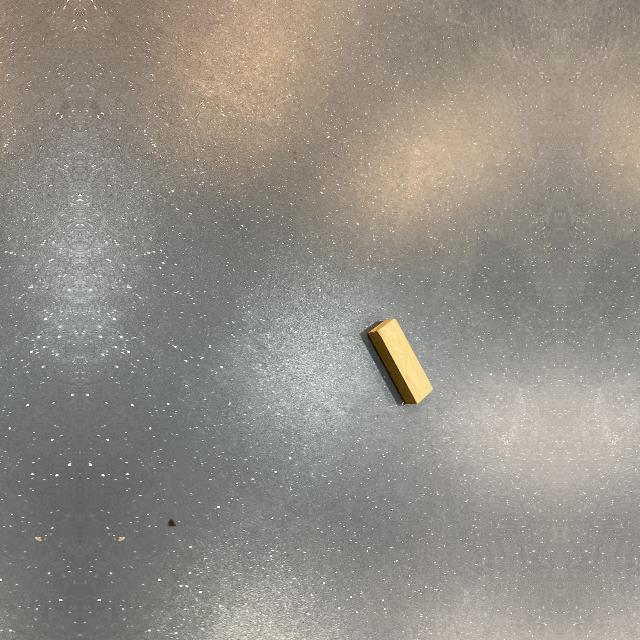jenga: (370, 319, 433, 404)
